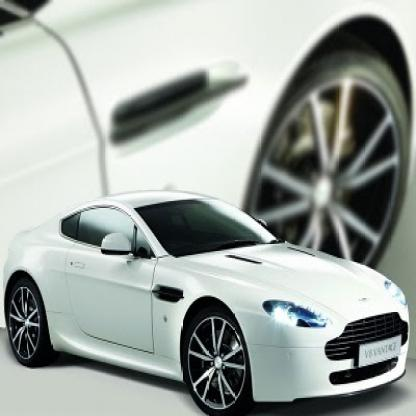Vehicle: (2, 2, 415, 346)
